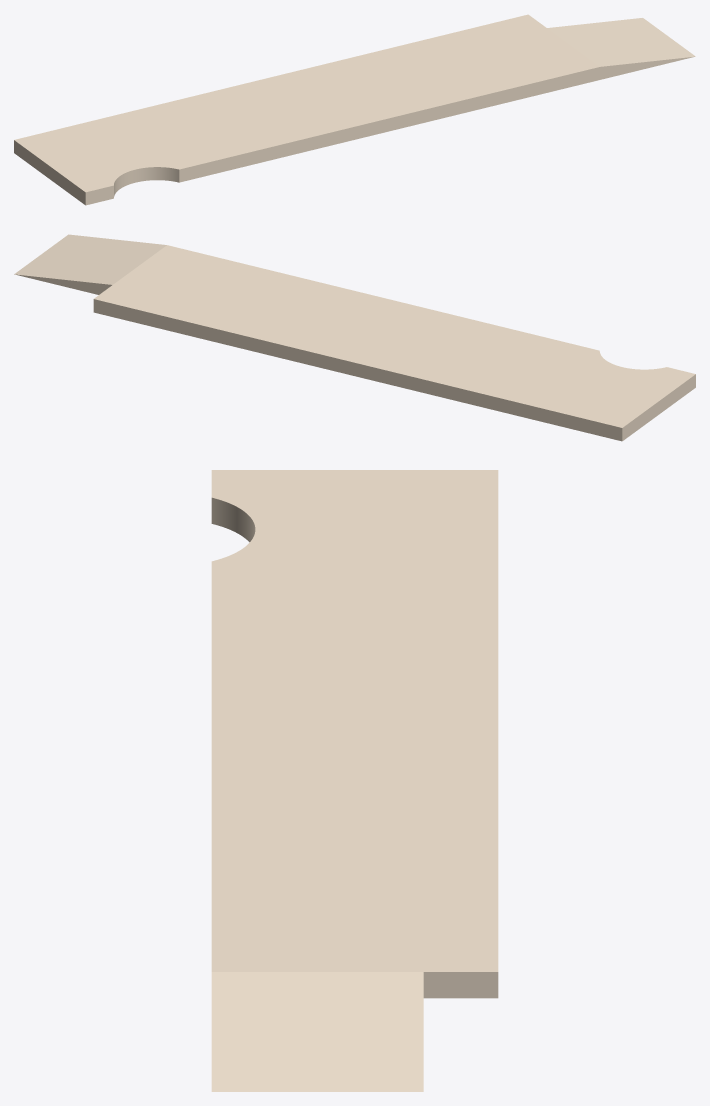
File: plancher gc.glb
3 renders of one model, top to bottom at view 1: azimuth 30°, elevation 25°; view 2: azimuth 150°, elevation 25°; view 3: azimuth 270°, elevation 25°, orthographic. The views are drawn at different scales.
Visible parts, largest first — view 1: Part 1; view 2: Part 1; view 3: Part 1.
Part boxes in pixels (x1,y1,x2,y2): Part 1: (14,14,695,205); Part 1: (14,234,695,441); Part 1: (211,470,498,1091).
Bounding box in the file's own units: 14.62 × 0.3 × 2.97.
